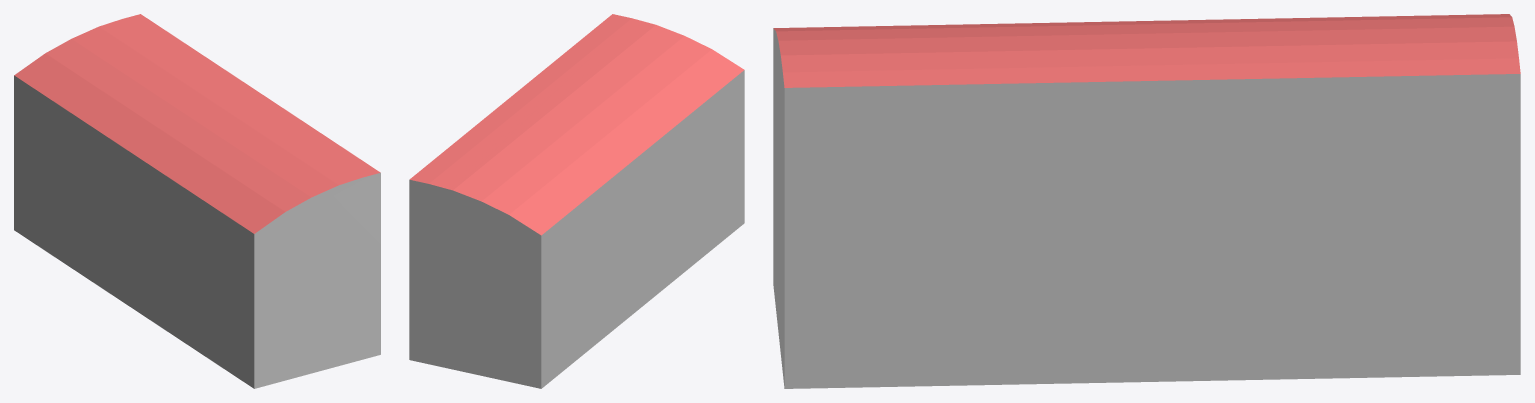
The picture shows the model from 3 angles, left to right: view 1: azimuth 30°, elevation 25°; view 2: azimuth 150°, elevation 25°; view 3: azimuth 270°, elevation 25°; orthographic projection. The views are drawn at different scales.
Visible parts, largest first — view 1: Z_UP; view 2: Z_UP; view 3: Z_UP.
Part boxes in pixels (left/top/right/bottom): Z_UP: left=14, top=14, right=380, bottom=388; Z_UP: left=409, top=14, right=744, bottom=388; Z_UP: left=773, top=14, right=1520, bottom=388.
Bounding box in the file's own units: 3.26 × 3.85 × 8.67.
